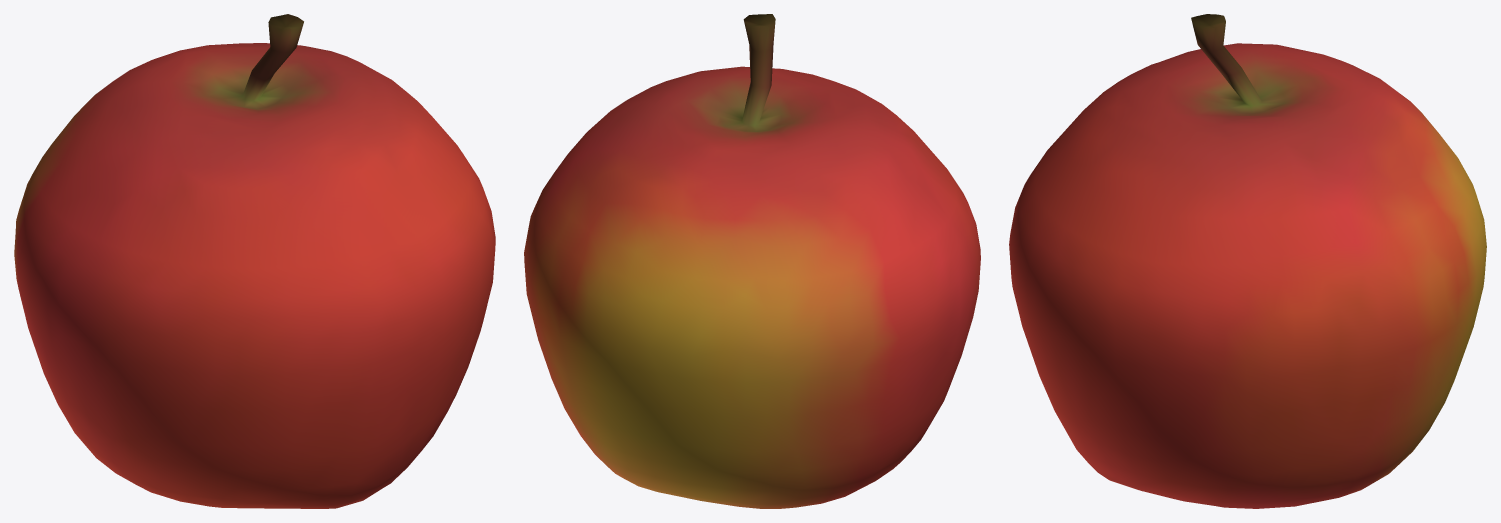
Rendered from apple.glb.
3 renders of one model, left to right at view 1: azimuth 30°, elevation 25°; view 2: azimuth 150°, elevation 25°; view 3: azimuth 270°, elevation 25°, orthographic. The views are drawn at different scales.
Parts seen in each view (by area): view 1: Sphere; view 2: Sphere; view 3: Sphere.
Part boxes in pixels (left/top/right/bottom): Sphere: left=14, top=14, right=495, bottom=508; Sphere: left=524, top=14, right=980, bottom=508; Sphere: left=1009, top=14, right=1486, bottom=508.
Size of the model in its own units: 0.2438 by 0.2512 by 0.2439.
